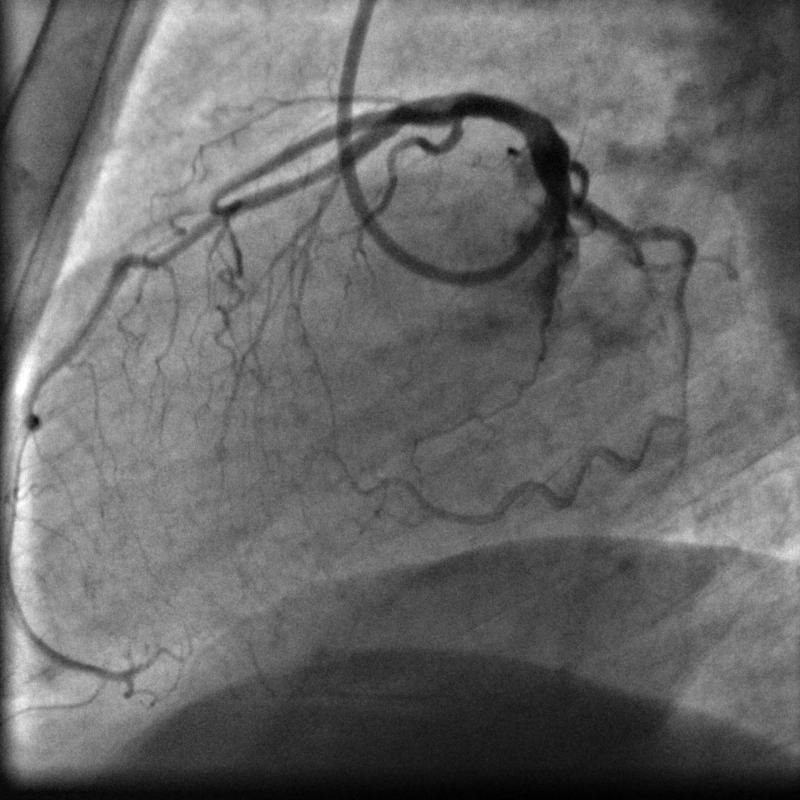Stenosis: (434, 92, 476, 135)
